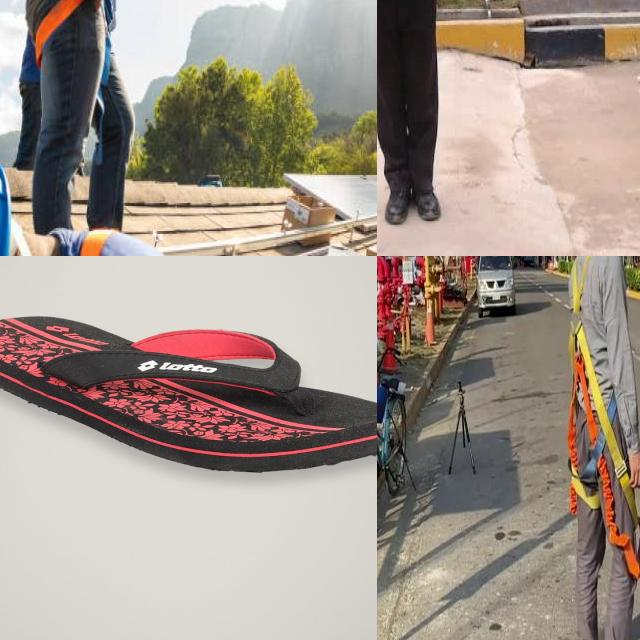Harness: (569, 321, 640, 582), (31, 0, 137, 98), (37, 224, 231, 256)
Sandals: (0, 314, 377, 474)
boots: (385, 180, 412, 230), (416, 180, 443, 229)
person: (377, 0, 524, 237)
